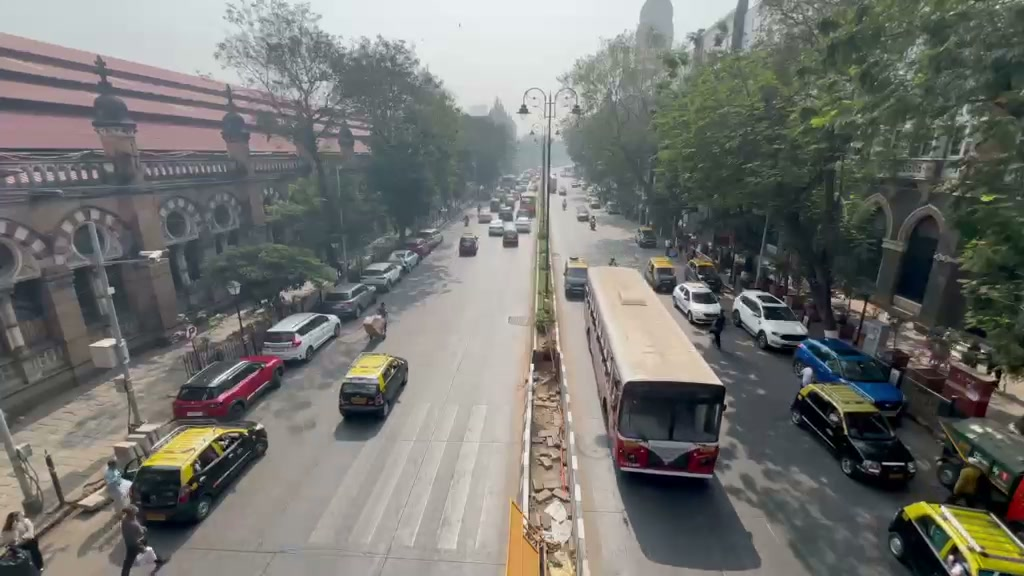bus: (582, 264, 729, 483)
car: (125, 422, 269, 525), (789, 383, 917, 489), (886, 500, 1024, 575), (792, 336, 908, 421), (171, 354, 284, 421), (337, 352, 409, 419), (732, 290, 810, 351), (260, 311, 341, 366), (318, 280, 379, 322), (672, 281, 722, 327), (360, 261, 404, 292), (646, 257, 680, 294), (388, 249, 420, 271), (459, 233, 480, 257), (502, 224, 519, 248)
pedestrian: (4, 511, 44, 573), (120, 508, 147, 576)
truck: (937, 417, 1024, 535), (563, 256, 589, 301)
